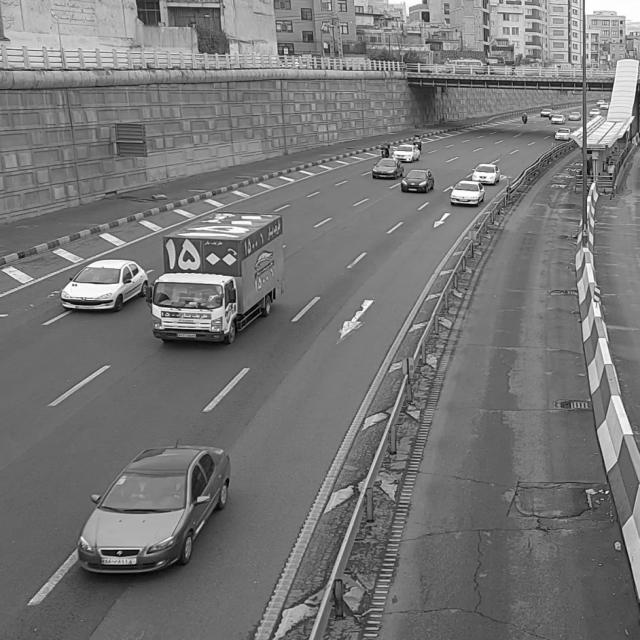Car: (72, 437, 238, 588), (57, 252, 145, 314), (447, 175, 488, 209)
Truck: (145, 206, 294, 357)
